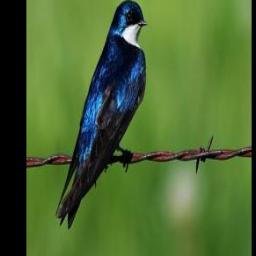Swallow: (55, 0, 148, 229)
